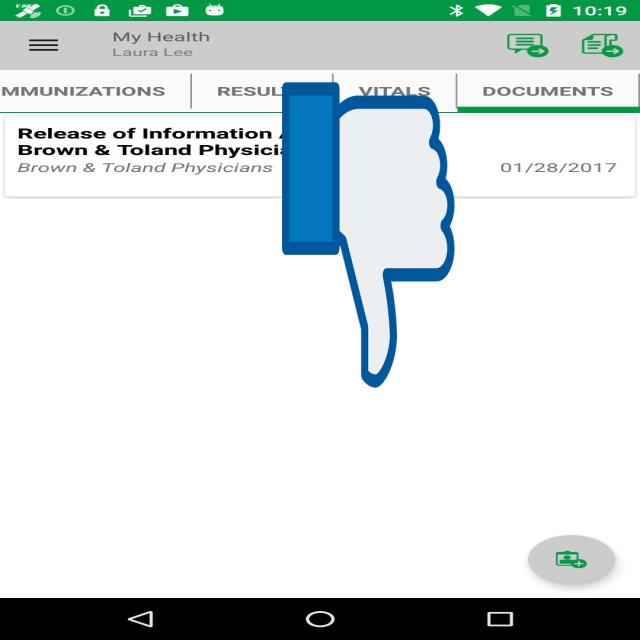obstruction: (282, 76, 455, 394)
